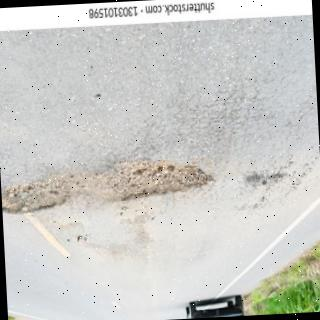pothole: (2, 160, 214, 214)
